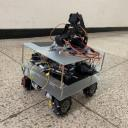cart: (21, 42, 107, 117)
